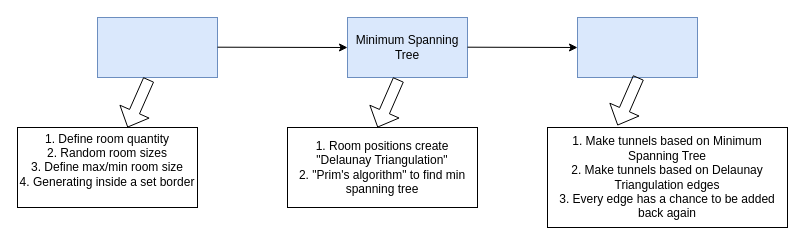
This 805x245 diagram has some shape labels left out. The box of each missing label's shape, as (x1, y1, x2, y2) in pixels:
Create Tunnels: (576, 16, 698, 78)
Spawning Rooms: (96, 16, 218, 78)
